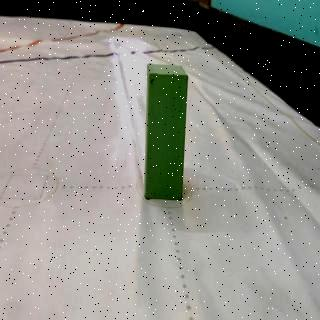greenbox: (144, 60, 190, 200)
